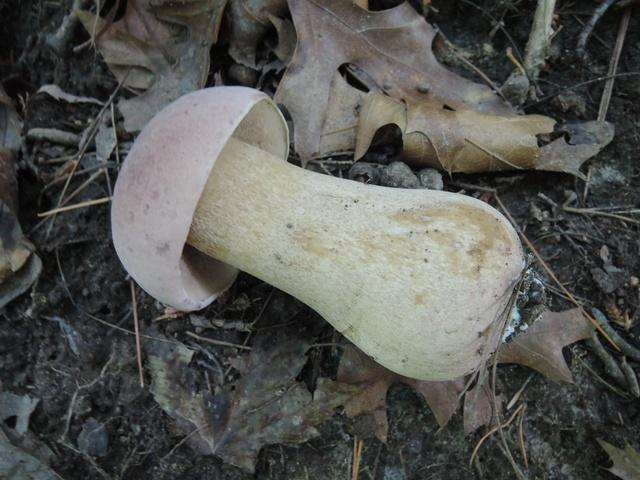poisonous_mushroom: (108, 83, 527, 382)
